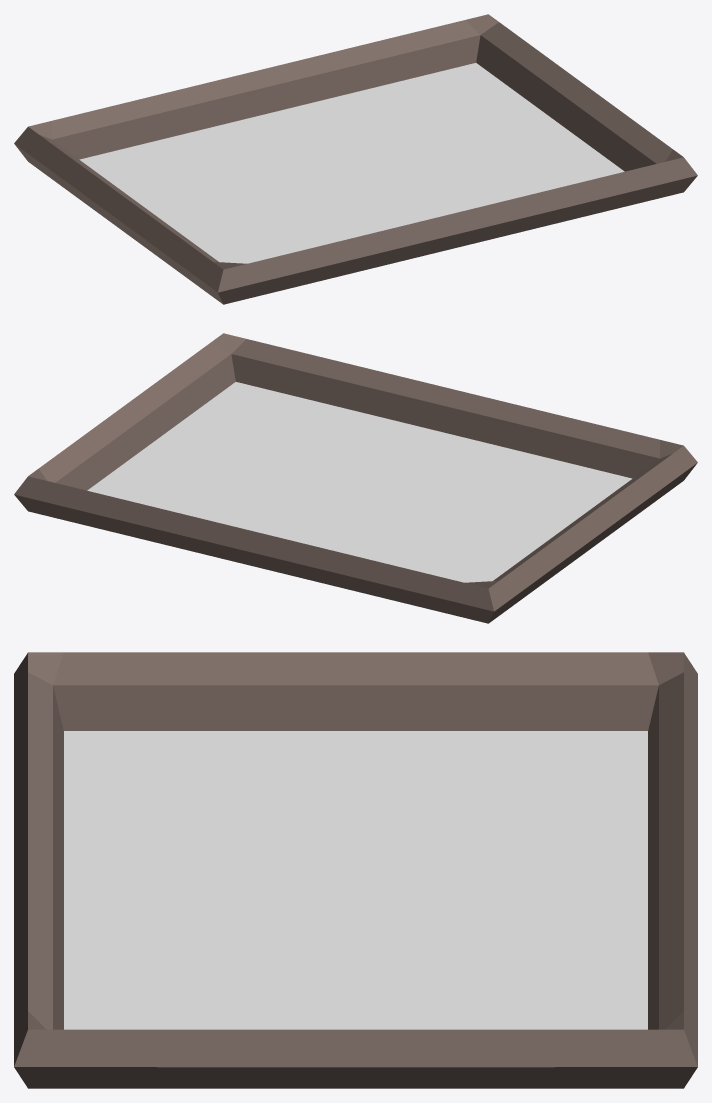
File: Painting.fbx
3 views of the same model, one above another, from view 1: azimuth 30°, elevation 25°; view 2: azimuth 150°, elevation 25°; view 3: azimuth 270°, elevation 25° (orthographic). The views are drawn at different scales.
Visible parts, largest first — view 1: Painting; view 2: Painting; view 3: Painting.
Boxes of the visible parts, bbox=[...] form: Painting: bbox=[14, 14, 697, 304]; Painting: bbox=[14, 333, 697, 623]; Painting: bbox=[14, 652, 697, 1088].
Bounding box in the file's own units: 354 × 24.76 × 261.
